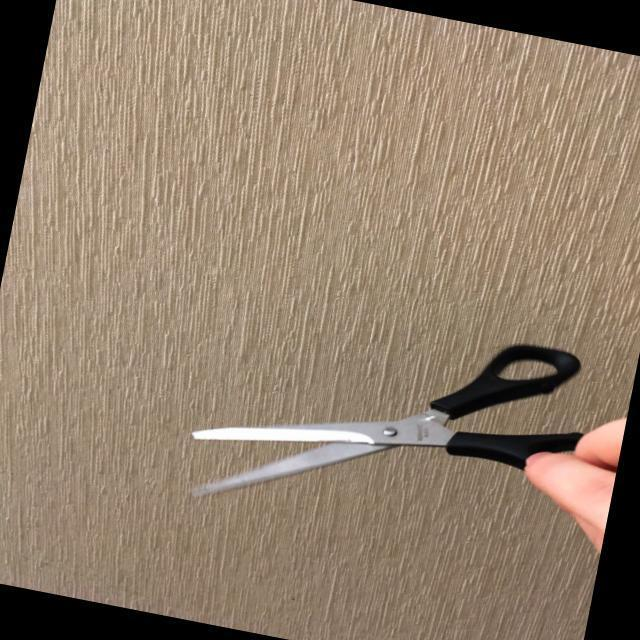scissors: (181, 282, 620, 528)
